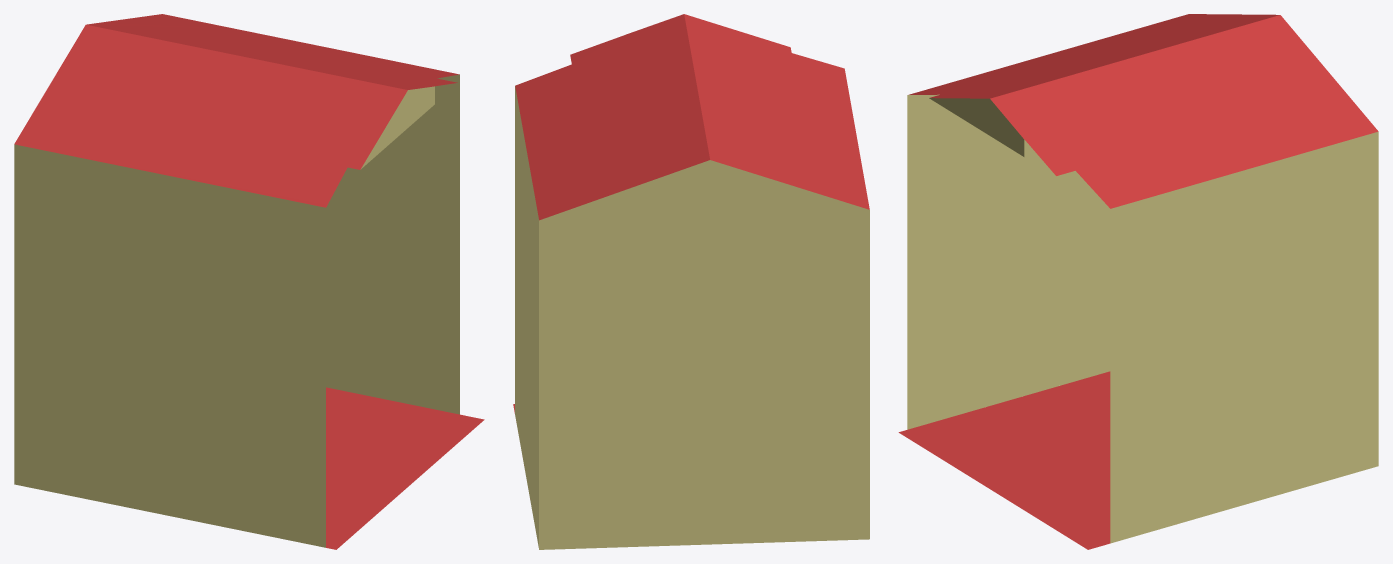
3 renders of one model, left to right at view 1: azimuth 30°, elevation 25°; view 2: azimuth 150°, elevation 25°; view 3: azimuth 270°, elevation 25°, orthographic. The views are drawn at different scales.
Parts seen in each view (by area): view 1: group_4, group_3, group_5; view 2: group_4, group_3; view 3: group_4, group_3, group_5.
Boxes of the visible parts, box(x1,y1,x2,y2) form: group_4: box(14, 74, 459, 547); group_3: box(14, 14, 459, 207); group_5: box(326, 387, 484, 549); group_4: box(515, 86, 869, 549); group_3: box(515, 14, 869, 220); group_4: box(907, 94, 1378, 543); group_3: box(909, 14, 1378, 208); group_5: box(898, 371, 1110, 549).
Bounding box in the file's own units: 7.34 × 7.4 × 6.63.
